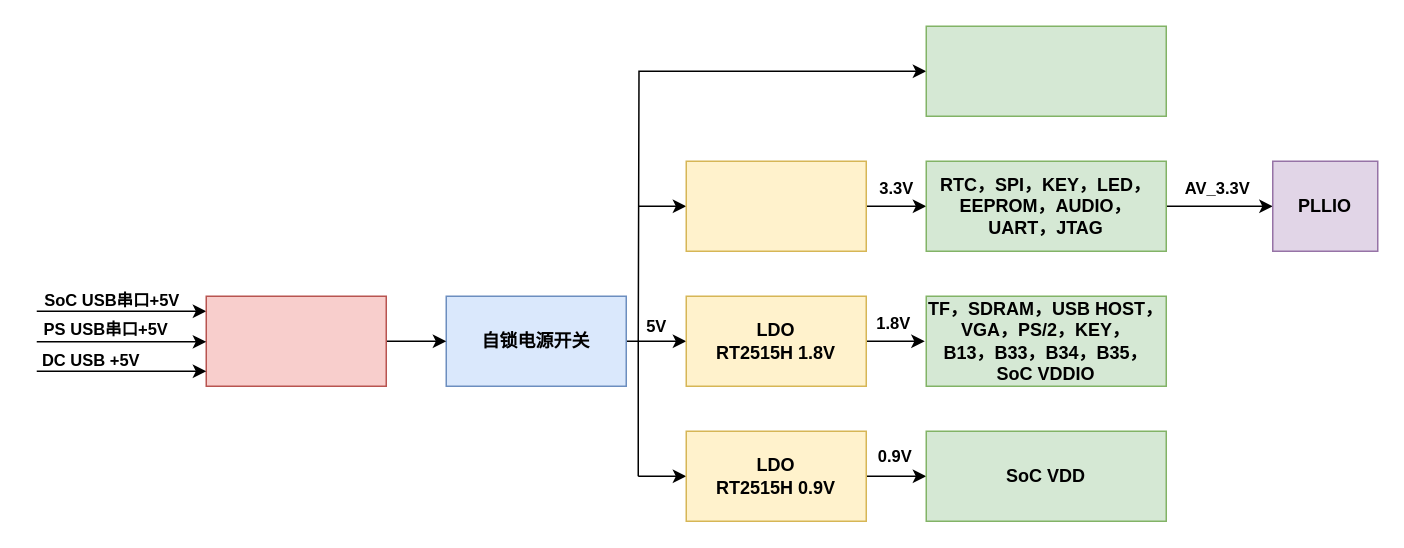
The diagram is 1404 pixels wide and 548 high, and some of its shapes have lost their labels. The centre of each missing label's shape, as x and y in pixels:
LDO RT2515H 3.3V: point 775,205
WS2812: point 1045,70
电源选择开关: point 295,340
